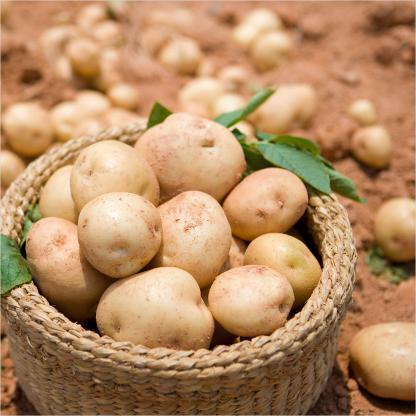potato: (89, 262, 222, 360), (132, 114, 240, 197), (69, 124, 160, 216), (204, 256, 300, 340), (218, 162, 322, 238), (155, 188, 238, 278), (82, 196, 160, 282), (244, 219, 327, 296), (334, 314, 416, 386), (362, 200, 415, 275)
